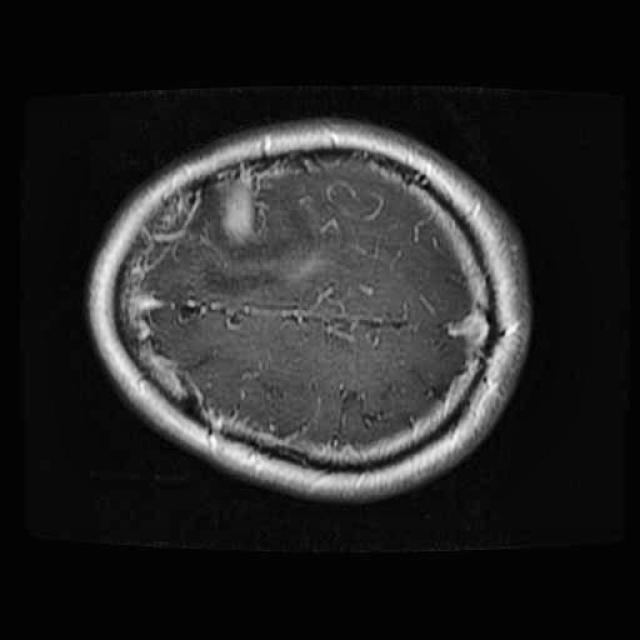Non-Tumor: (211, 165, 266, 260)
